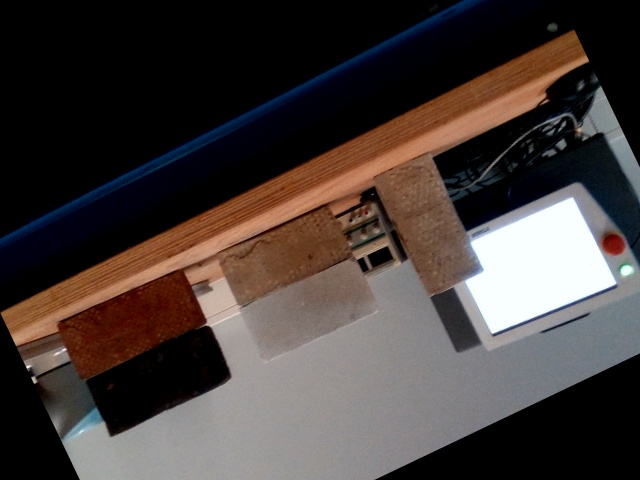brick: (88, 329, 230, 433), (376, 155, 478, 292), (60, 276, 201, 374), (243, 259, 375, 357), (221, 209, 348, 303)
